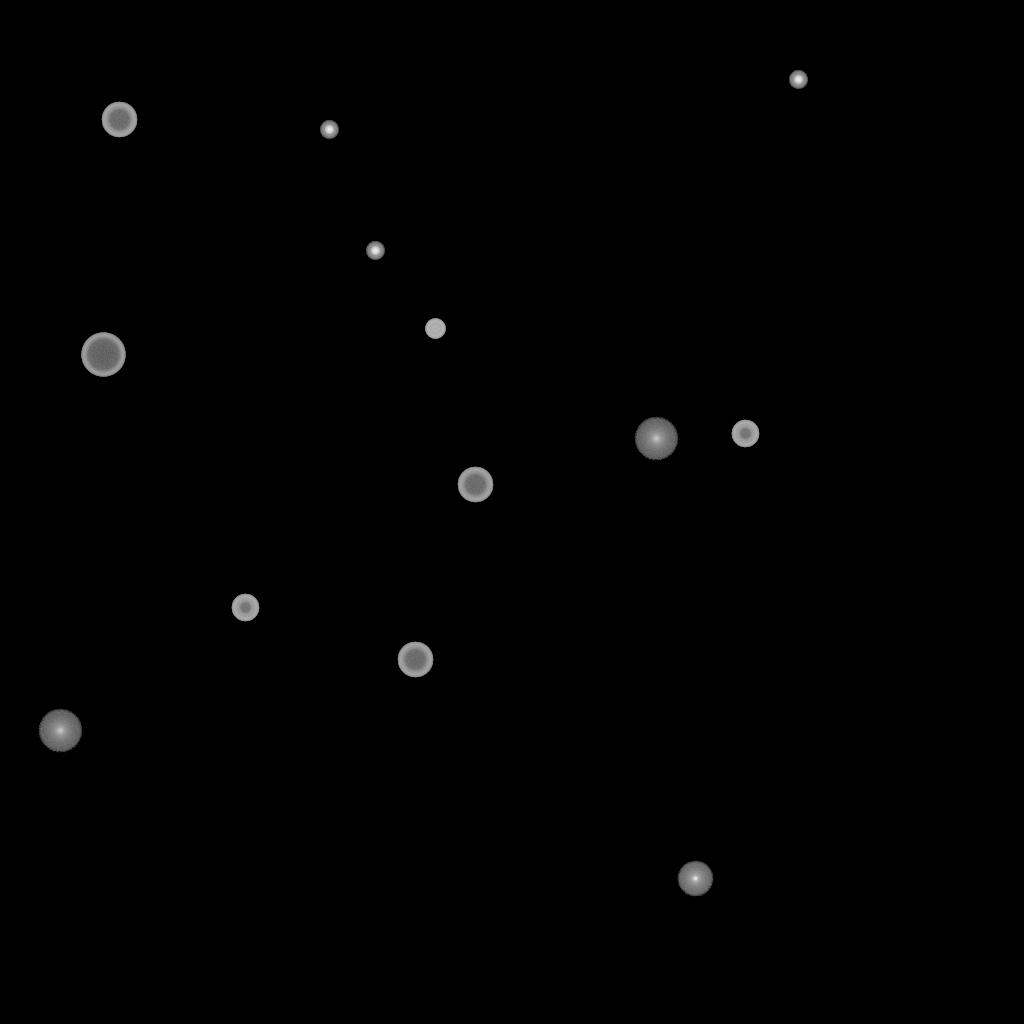depth:-20: (789, 71, 807, 89), (320, 121, 338, 139), (366, 242, 384, 260)
depth:-40: (425, 319, 445, 339)
depth:-50: (731, 420, 759, 448), (231, 594, 259, 622)
depth:-60: (397, 642, 433, 678), (101, 102, 137, 138), (457, 467, 493, 503)
depth:-70: (81, 333, 125, 377)
depth:0: (677, 861, 713, 897)
depth:10: (38, 709, 82, 753), (634, 417, 678, 461)
